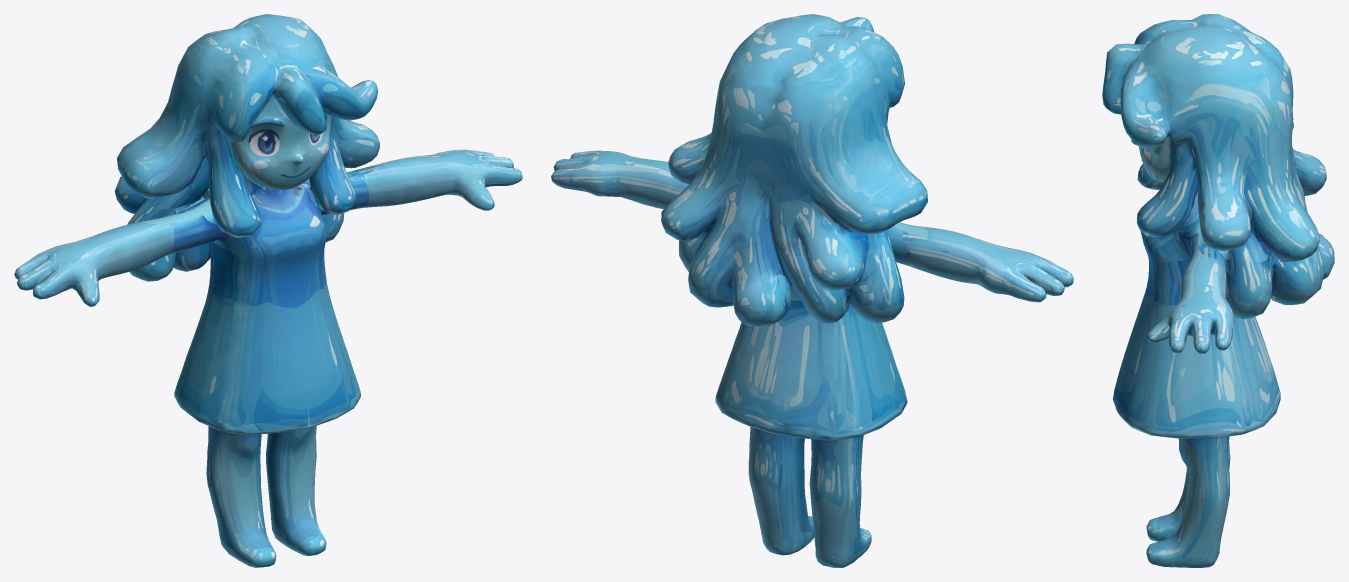
Rendered from Boss_SlimeGirl.fbx.
3 renders of one model, left to right at view 1: azimuth 30°, elevation 25°; view 2: azimuth 150°, elevation 25°; view 3: azimuth 270°, elevation 25°, orthographic. The views are drawn at different scales.
Parts seen in each view (by area): view 1: texture_mapping; view 2: texture_mapping; view 3: texture_mapping.
Boxes of the visible parts, x1,y1,x2,y2 form: texture_mapping: (14,14,522,567); texture_mapping: (551,14,1073,567); texture_mapping: (1102,14,1334,567).
Bounding box in the file's own units: 1 × 0.4044 × 1.
1 material, 1 textured.
